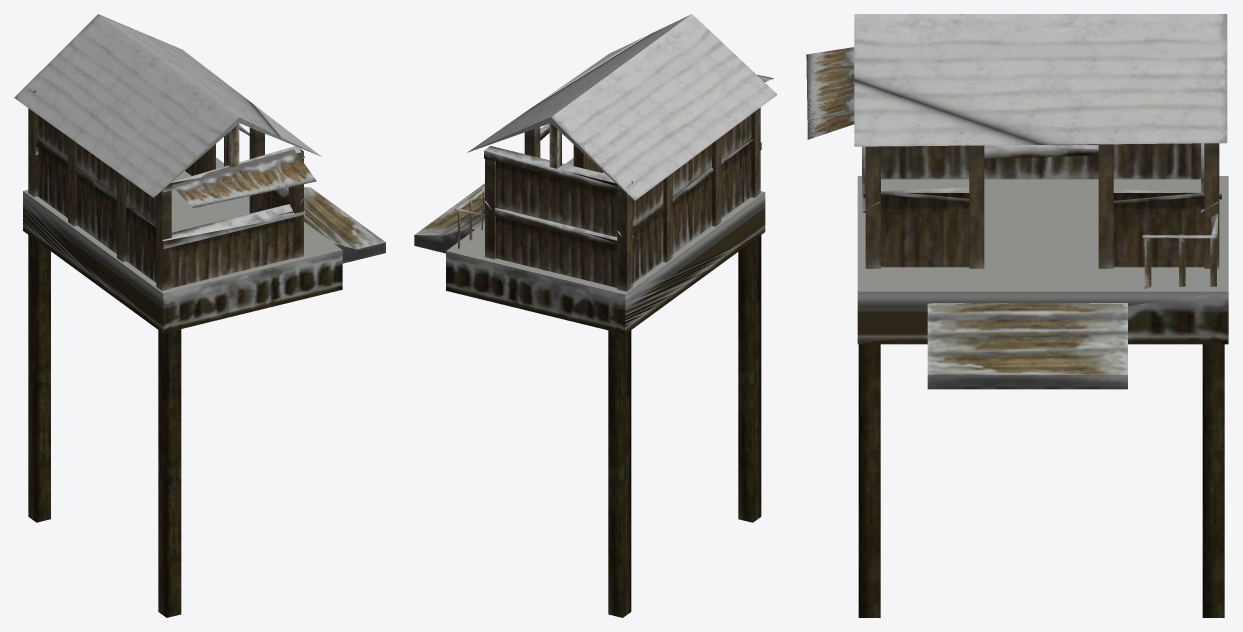
File: nsm-general_obj_01_1_lod_01.fbx
The picture shows the model from 3 angles, left to right: view 1: azimuth 30°, elevation 25°; view 2: azimuth 150°, elevation 25°; view 3: azimuth 270°, elevation 25°; orthographic projection. The views are drawn at different scales.
Visible parts, largest first — view 1: Sphere01; view 2: Sphere01; view 3: Sphere01.
Boxes of the visible parts, bbox=[...] form: Sphere01: bbox=[14, 14, 385, 617]; Sphere01: bbox=[414, 14, 777, 617]; Sphere01: bbox=[806, 14, 1228, 617].
Bounding box in the file's own units: 7.93 × 14.11 × 8.43.
